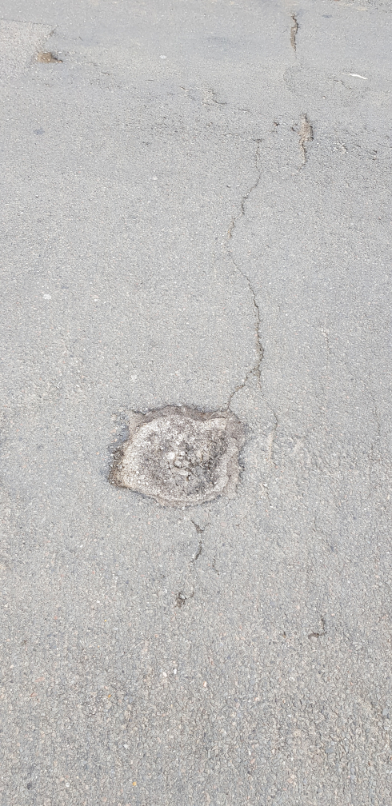pothole: (102, 400, 255, 506)
